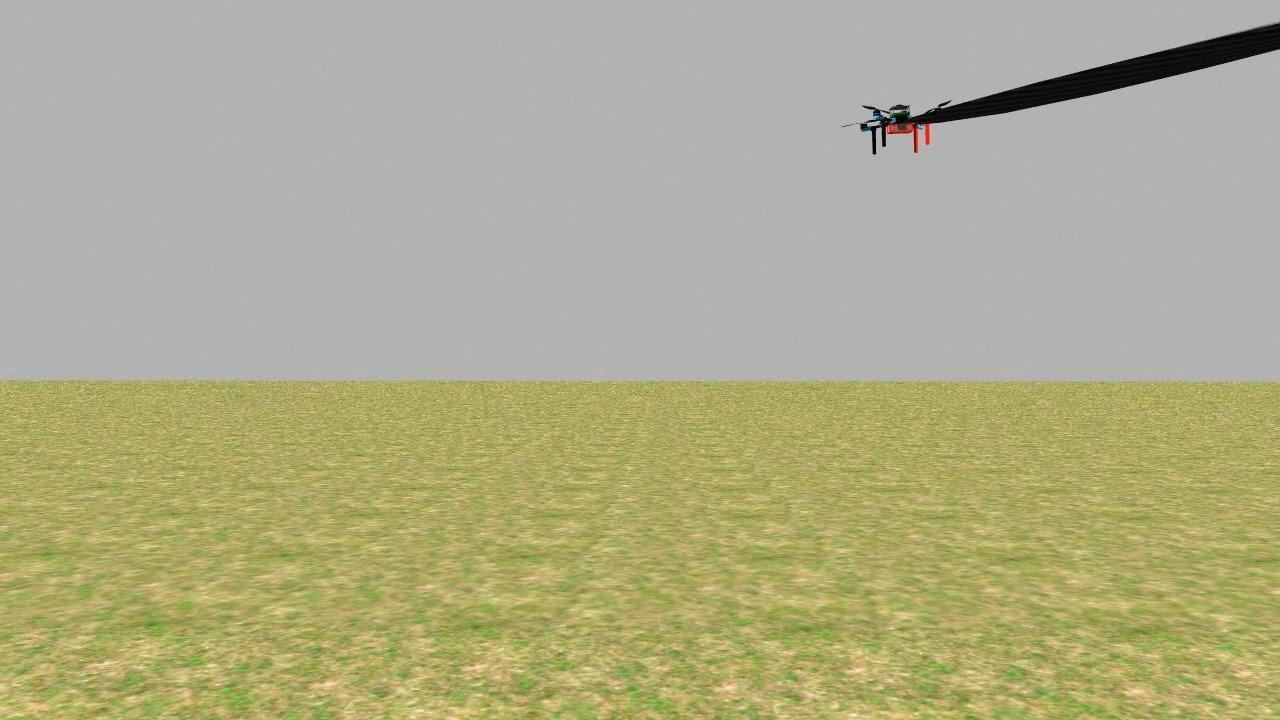UAV: (847, 87, 953, 156)
